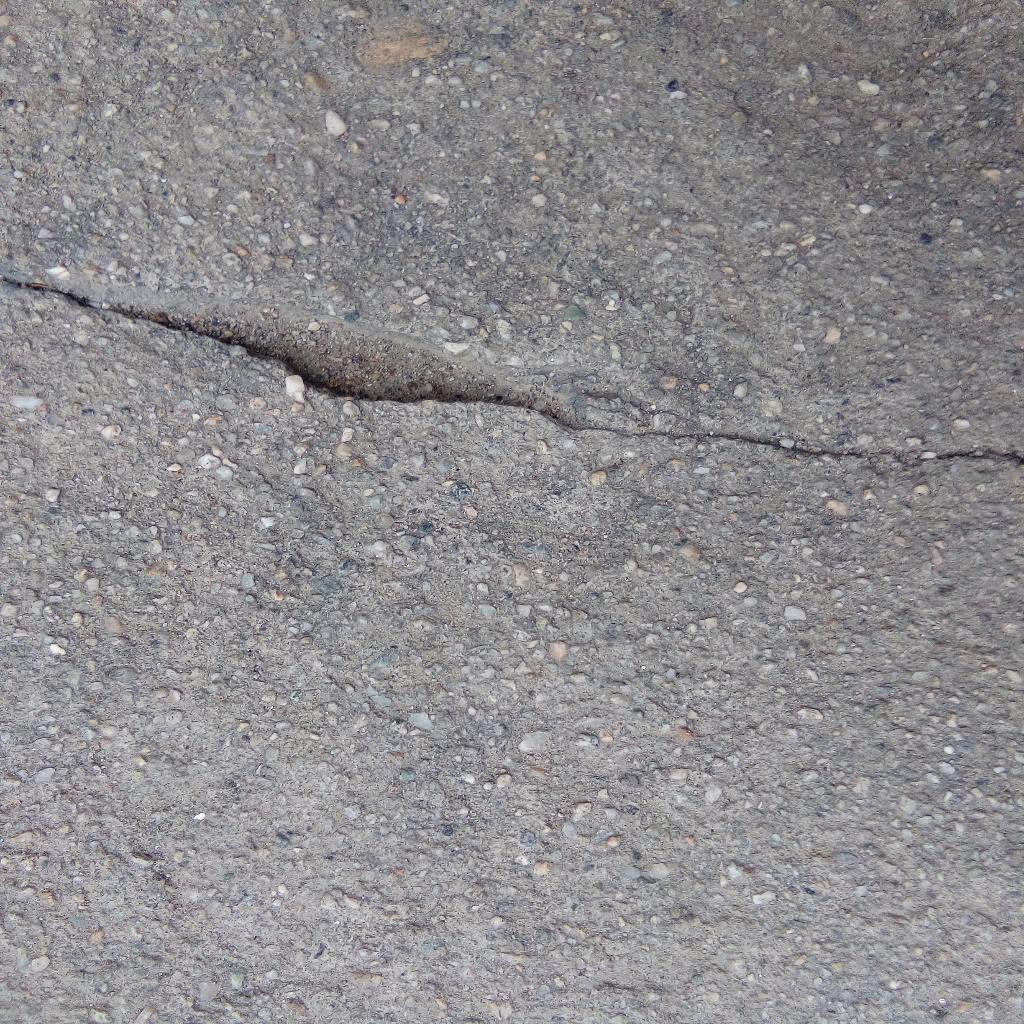Crack: (1, 276, 1024, 466)
